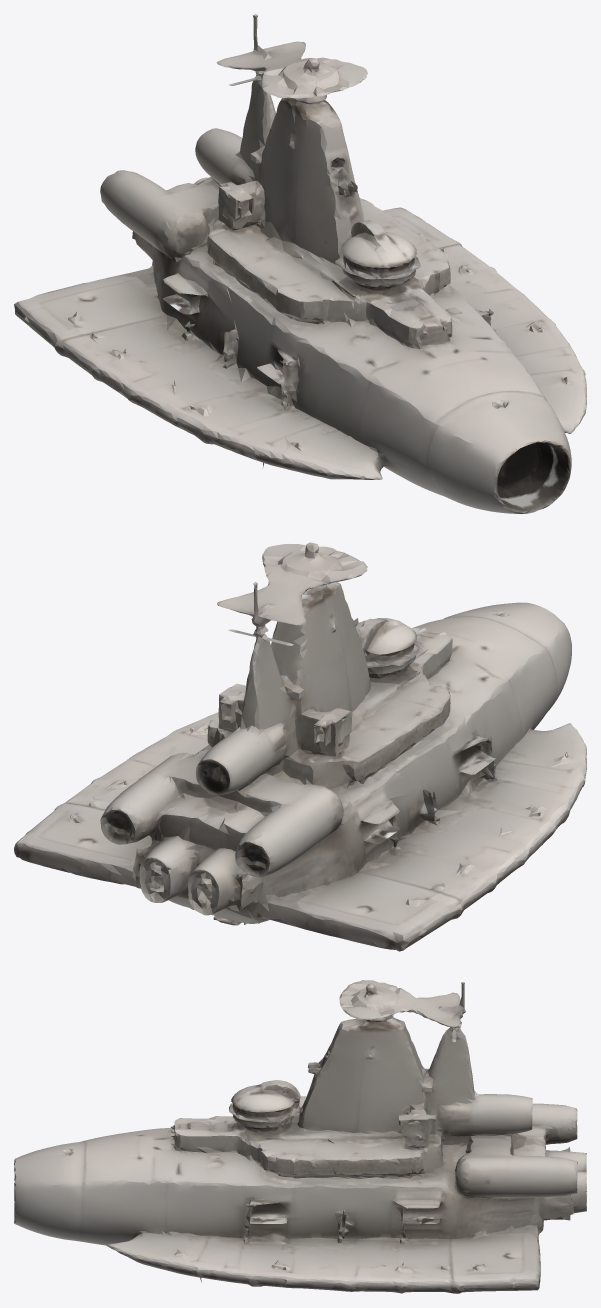
File: titan_tail.glb
3 renders of one model, top to bottom at view 1: azimuth 30°, elevation 25°; view 2: azimuth 150°, elevation 25°; view 3: azimuth 270°, elevation 25°, orthographic. The views are drawn at different scales.
Parts seen in each view (by area): view 1: titan_tail; view 2: titan_tail; view 3: titan_tail.
Part boxes in pixels (left/top/right/bottom): titan_tail: left=14, top=14, right=586, bottom=513; titan_tail: left=14, top=542, right=586, bottom=951; titan_tail: left=14, top=980, right=586, bottom=1293.
Bounding box in the file's own units: 1.25 × 1 × 1.88.
1 material, 1 textured.
